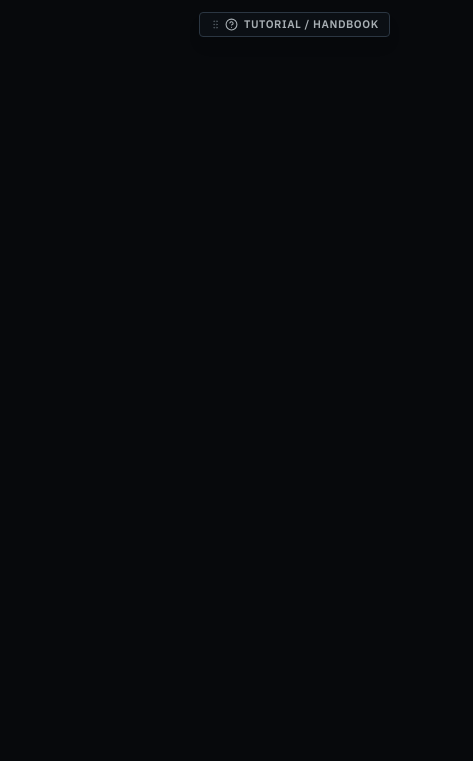
Test: Phase 9.1.3: Tutorial Overlay & HUD Button Controls › 3. TutorialHUDButton toggles popover menu and triggers start tutorial
Note: Click to open menu
Step 1. Click the button with aria-label "Tutorial and Handbook Menu" → (294, 24), box [199,12,390,37]
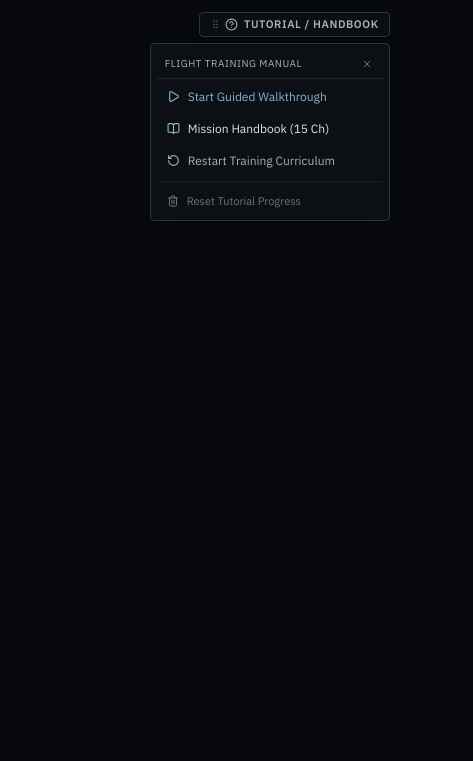
Check: the menu named "Tutorial Options" is shown, box [150,43,390,221]
Note: Click Start Guided Walkthrough
Step 2. Click the menu item "Start Guided Walkthrough" → (270, 97), box [157,83,383,111]
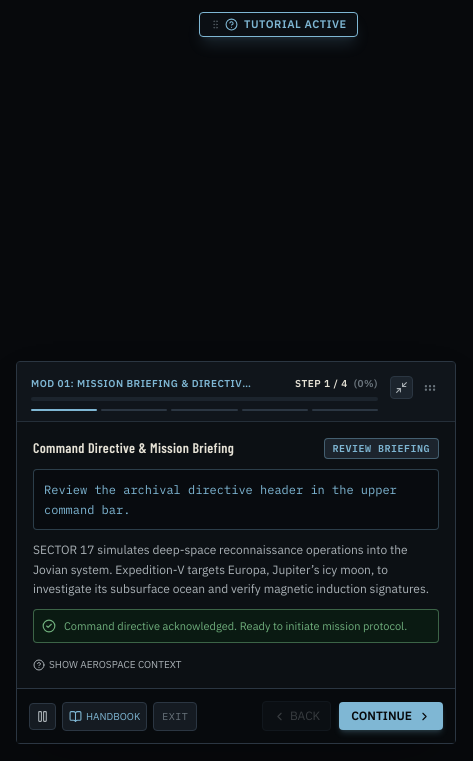
Check: the element with test id "tutorial-dialog" is shown, box [16,361,456,744]
